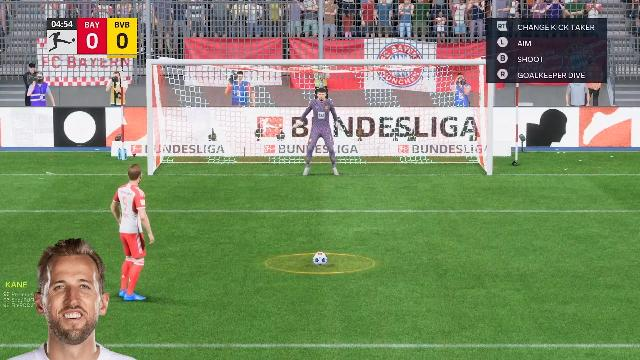circle: (266, 252, 376, 276)
football: (312, 252, 326, 264)
goal-bottom-left: (154, 124, 262, 176)
goal-bottom-right: (374, 126, 488, 176)
goal-middle-down: (264, 124, 374, 176)
goal-middle-up: (266, 65, 372, 123)
goal-top-left: (155, 65, 263, 123)
goal-top-right: (375, 66, 489, 124)
goalkeeper: (294, 90, 352, 190)
player: (111, 162, 159, 304)
